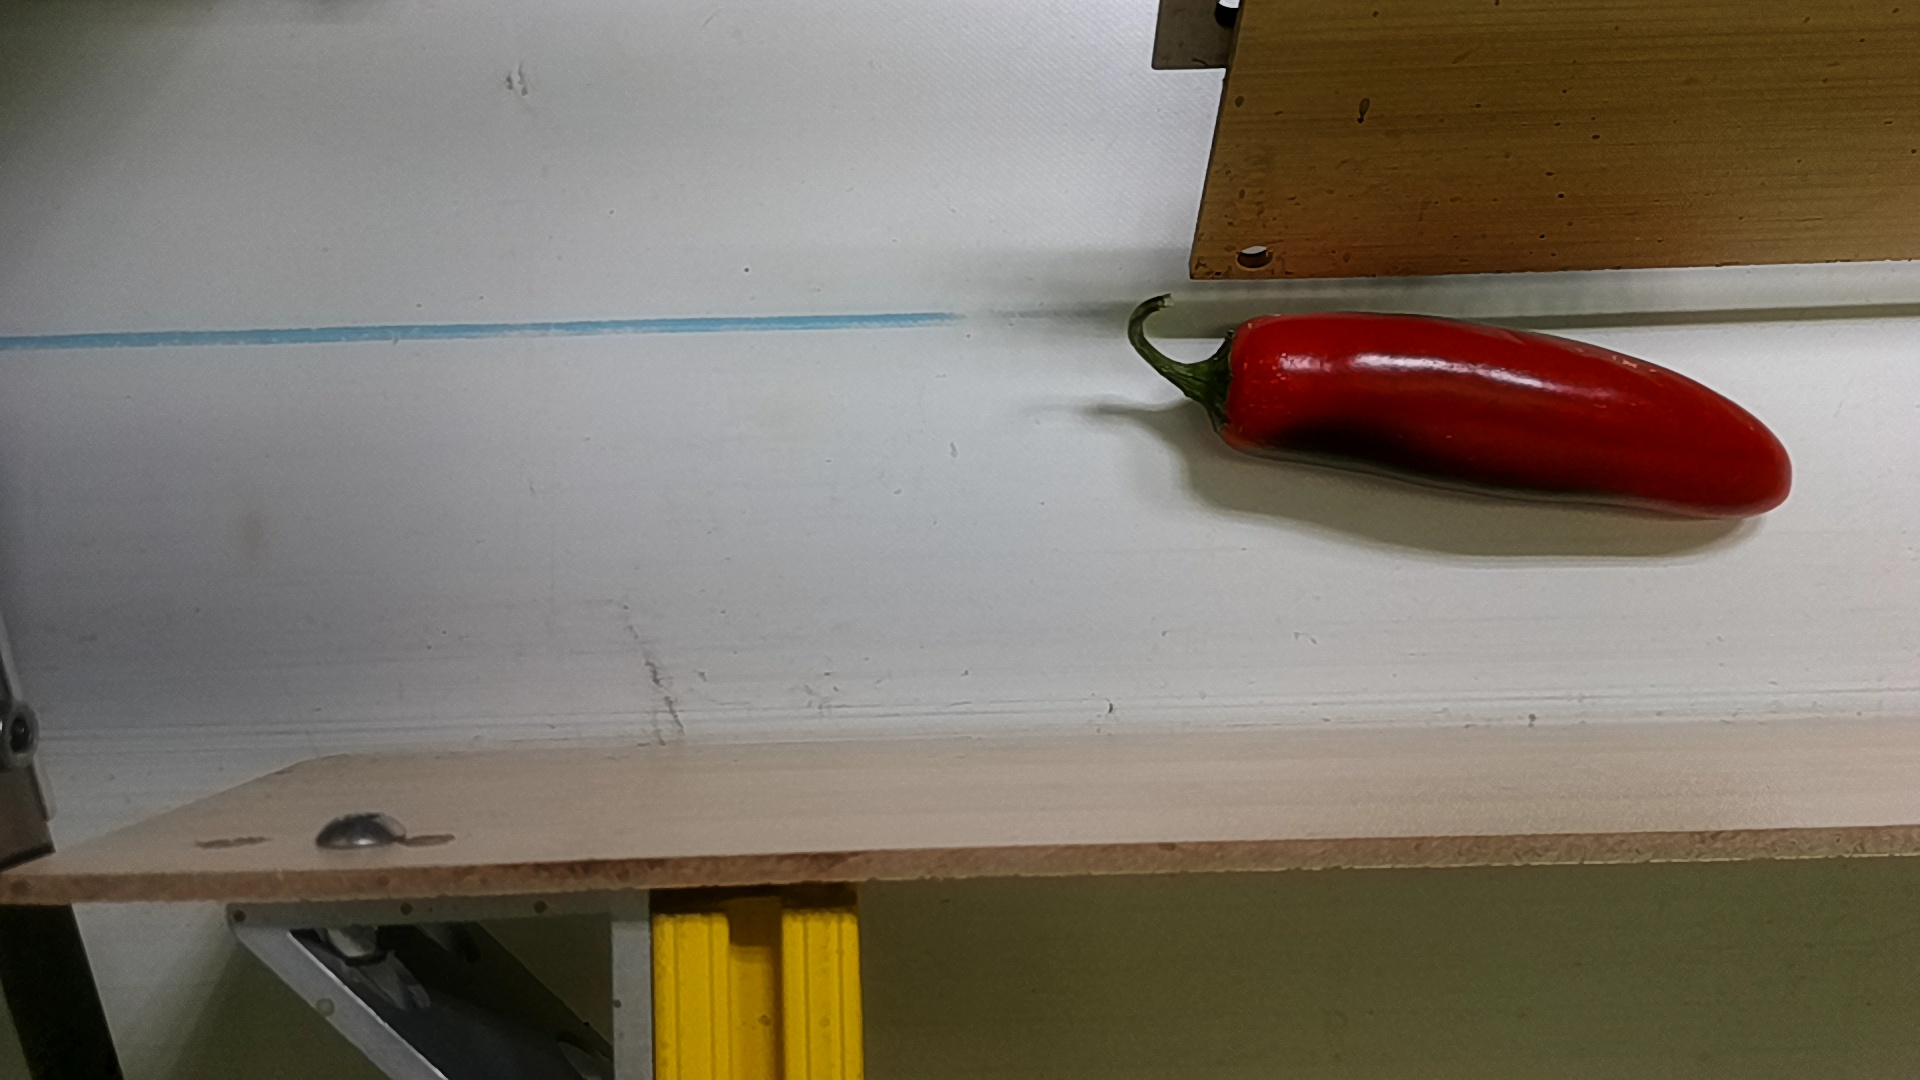Cut Point: (1193, 309, 1284, 464)
